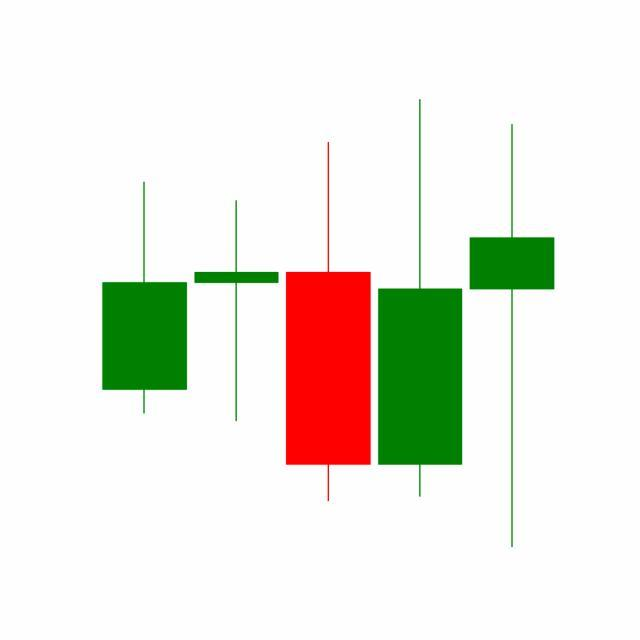Spinning Top: (466, 121, 559, 553)
